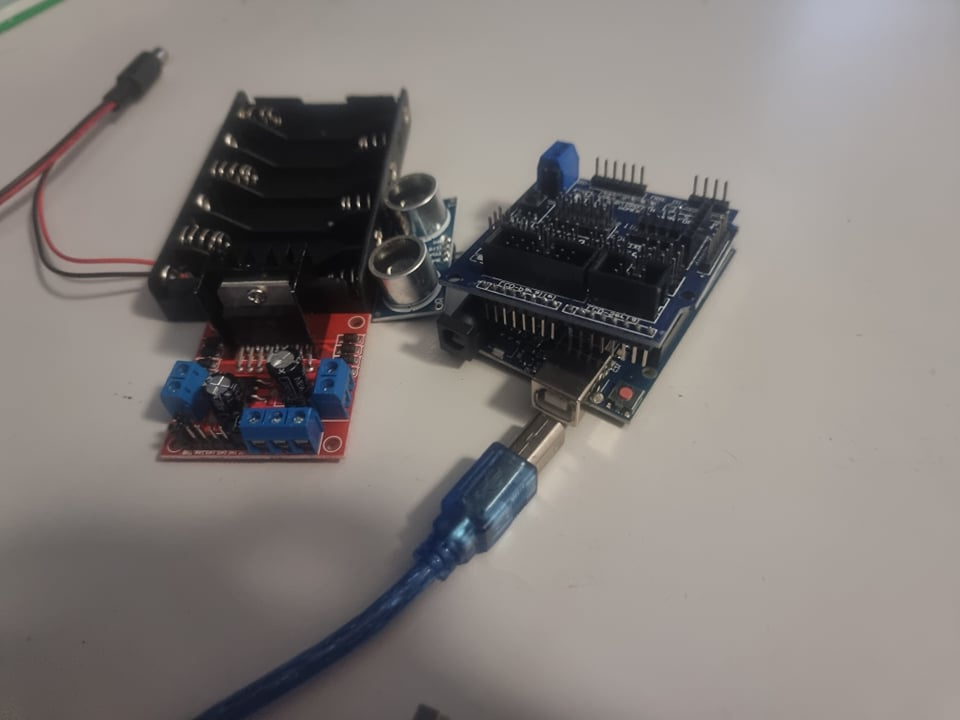5V EXPANSION: (442, 141, 739, 319)
BATTERY BOX: (149, 90, 419, 322)
MOTOR: (154, 254, 357, 466)
SENSOR: (371, 170, 464, 324)
UNO R3: (415, 316, 652, 430)
